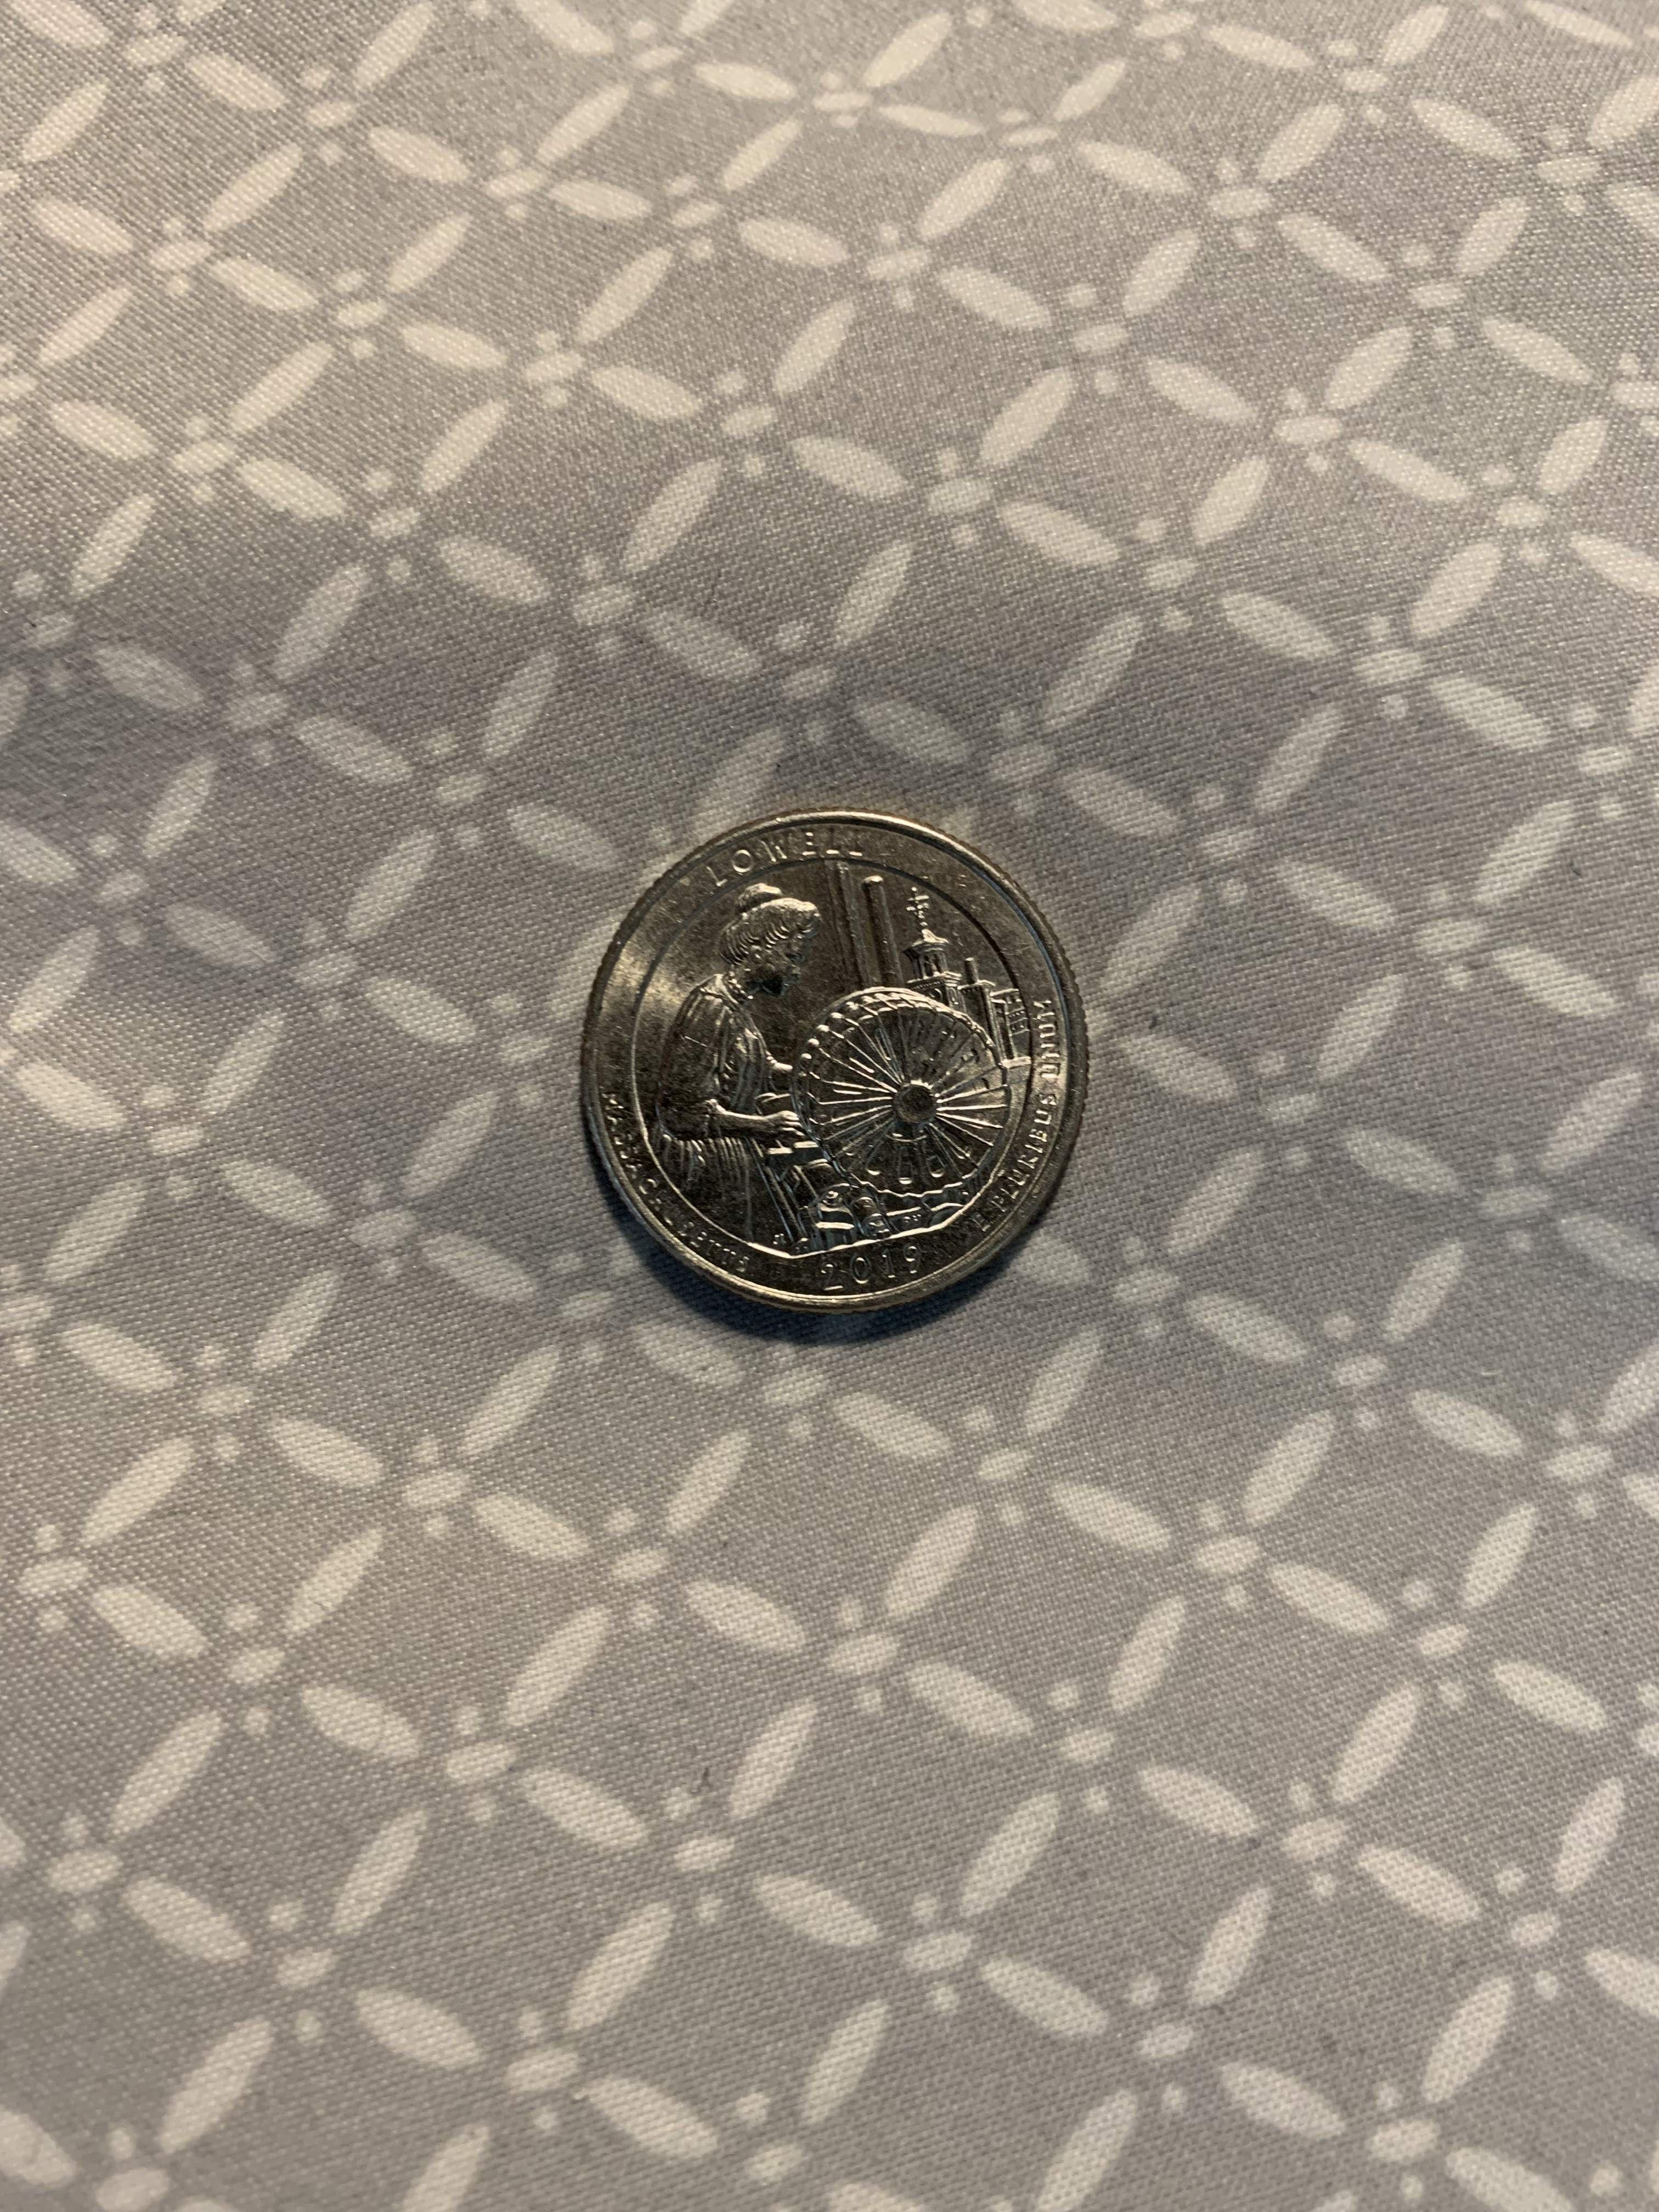Quarter: (544, 789, 1110, 1352)
